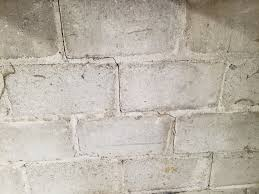stairstep_crack: (55, 0, 214, 190)
